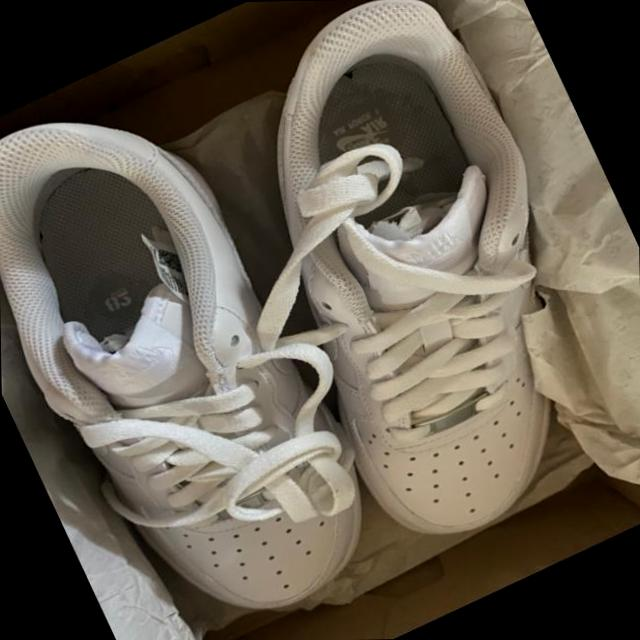nike_original_airforce: (175, 0, 640, 566), (0, 47, 412, 640)
